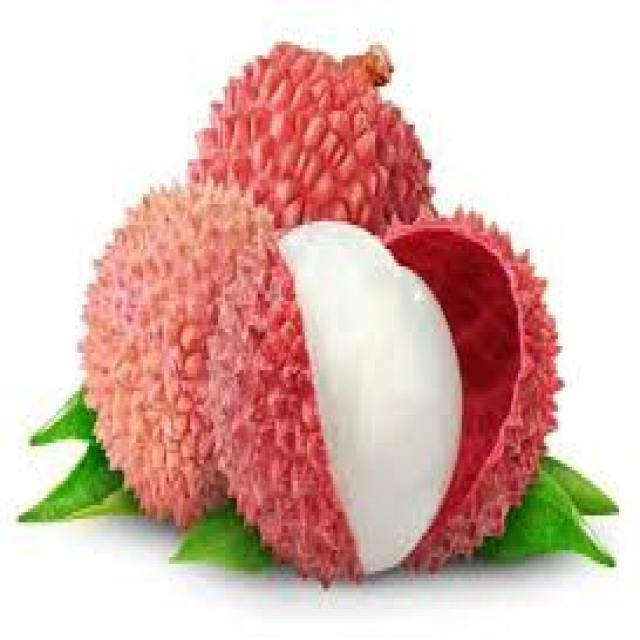organic waste: (206, 204, 558, 592), (75, 180, 274, 533), (181, 35, 436, 222)
